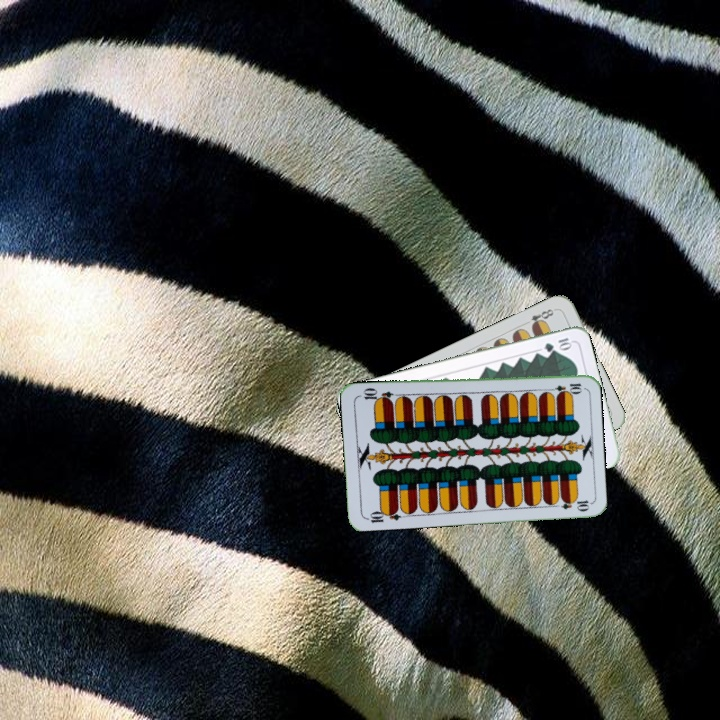E10: (362, 505, 403, 525), (544, 379, 584, 395)
E8: (520, 305, 559, 331)
G10: (540, 334, 574, 355)
